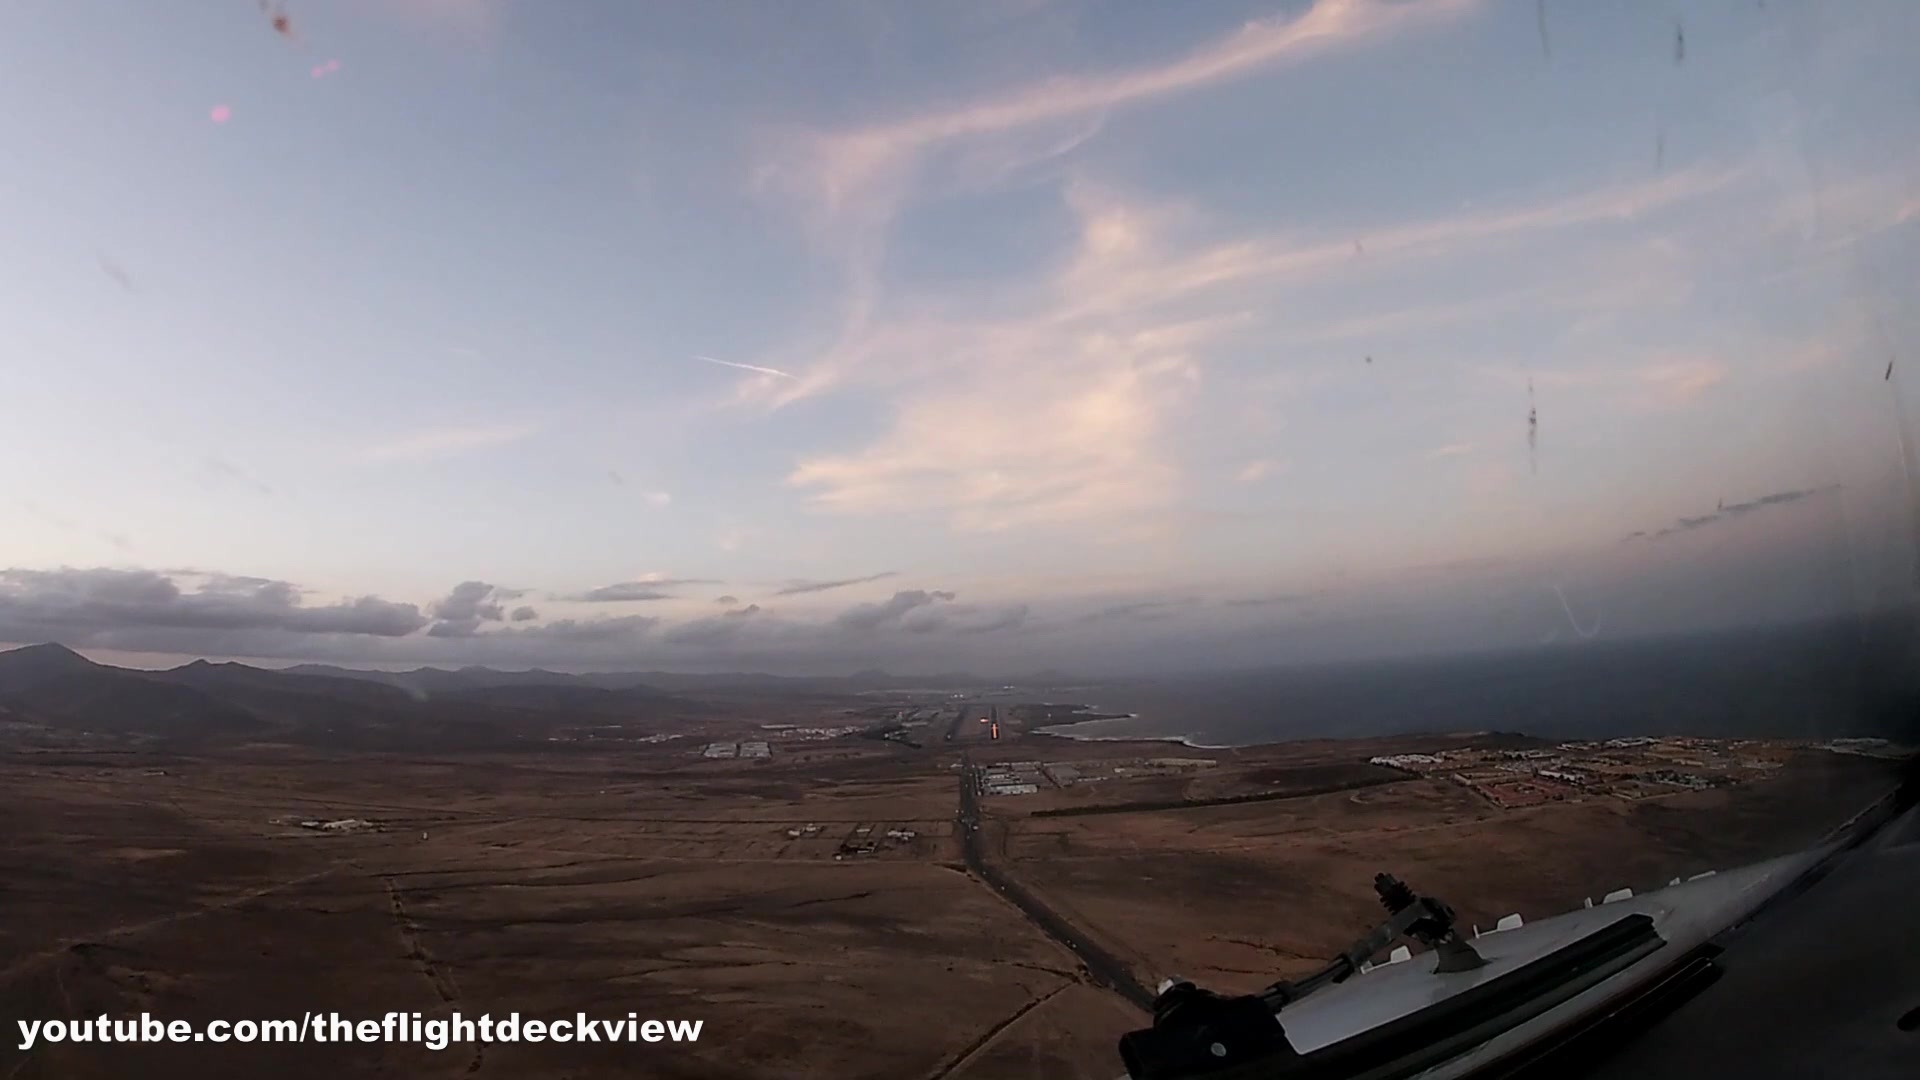runway: (986, 702, 1001, 742)
